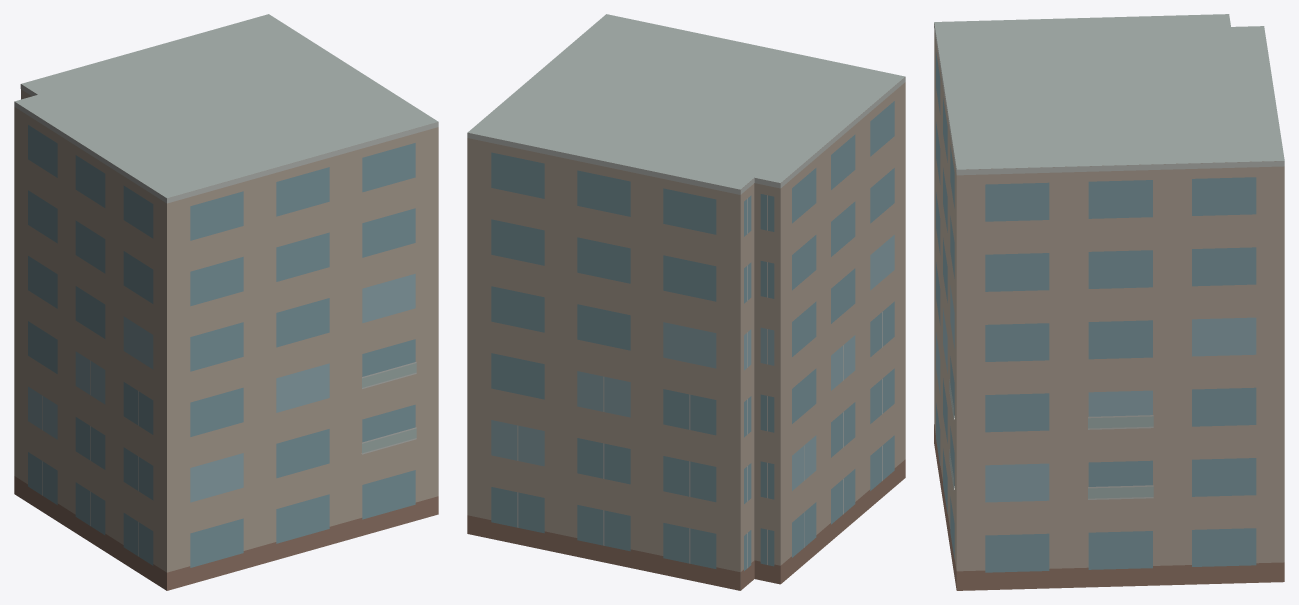
Rendered from survey-upis-32743026.glb.
3 renders of one model, left to right at view 1: azimuth 30°, elevation 25°; view 2: azimuth 150°, elevation 25°; view 3: azimuth 270°, elevation 25°, orthographic. The views are drawn at different scales.
Visible parts, largest first — view 1: survey-upis-32743026.tmp; view 2: survey-upis-32743026.tmp; view 3: survey-upis-32743026.tmp.
Boxes of the visible parts, box(x1,y1,x2,y2) form: survey-upis-32743026.tmp: box(14, 14, 438, 590); survey-upis-32743026.tmp: box(467, 14, 905, 590); survey-upis-32743026.tmp: box(934, 14, 1284, 590).
Bounding box in the file's own units: 14.52 × 18.3 × 13.82.
